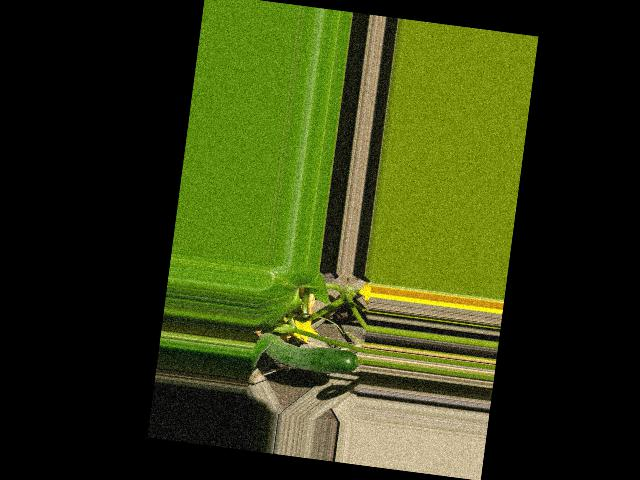cucumber: (250, 331, 359, 377)
